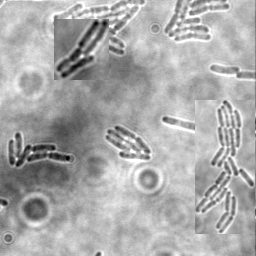Microcolony: (195, 100, 255, 234), (51, 1, 147, 56), (54, 19, 109, 80), (162, 1, 231, 44), (8, 130, 72, 167), (106, 124, 153, 160), (208, 63, 240, 74)
